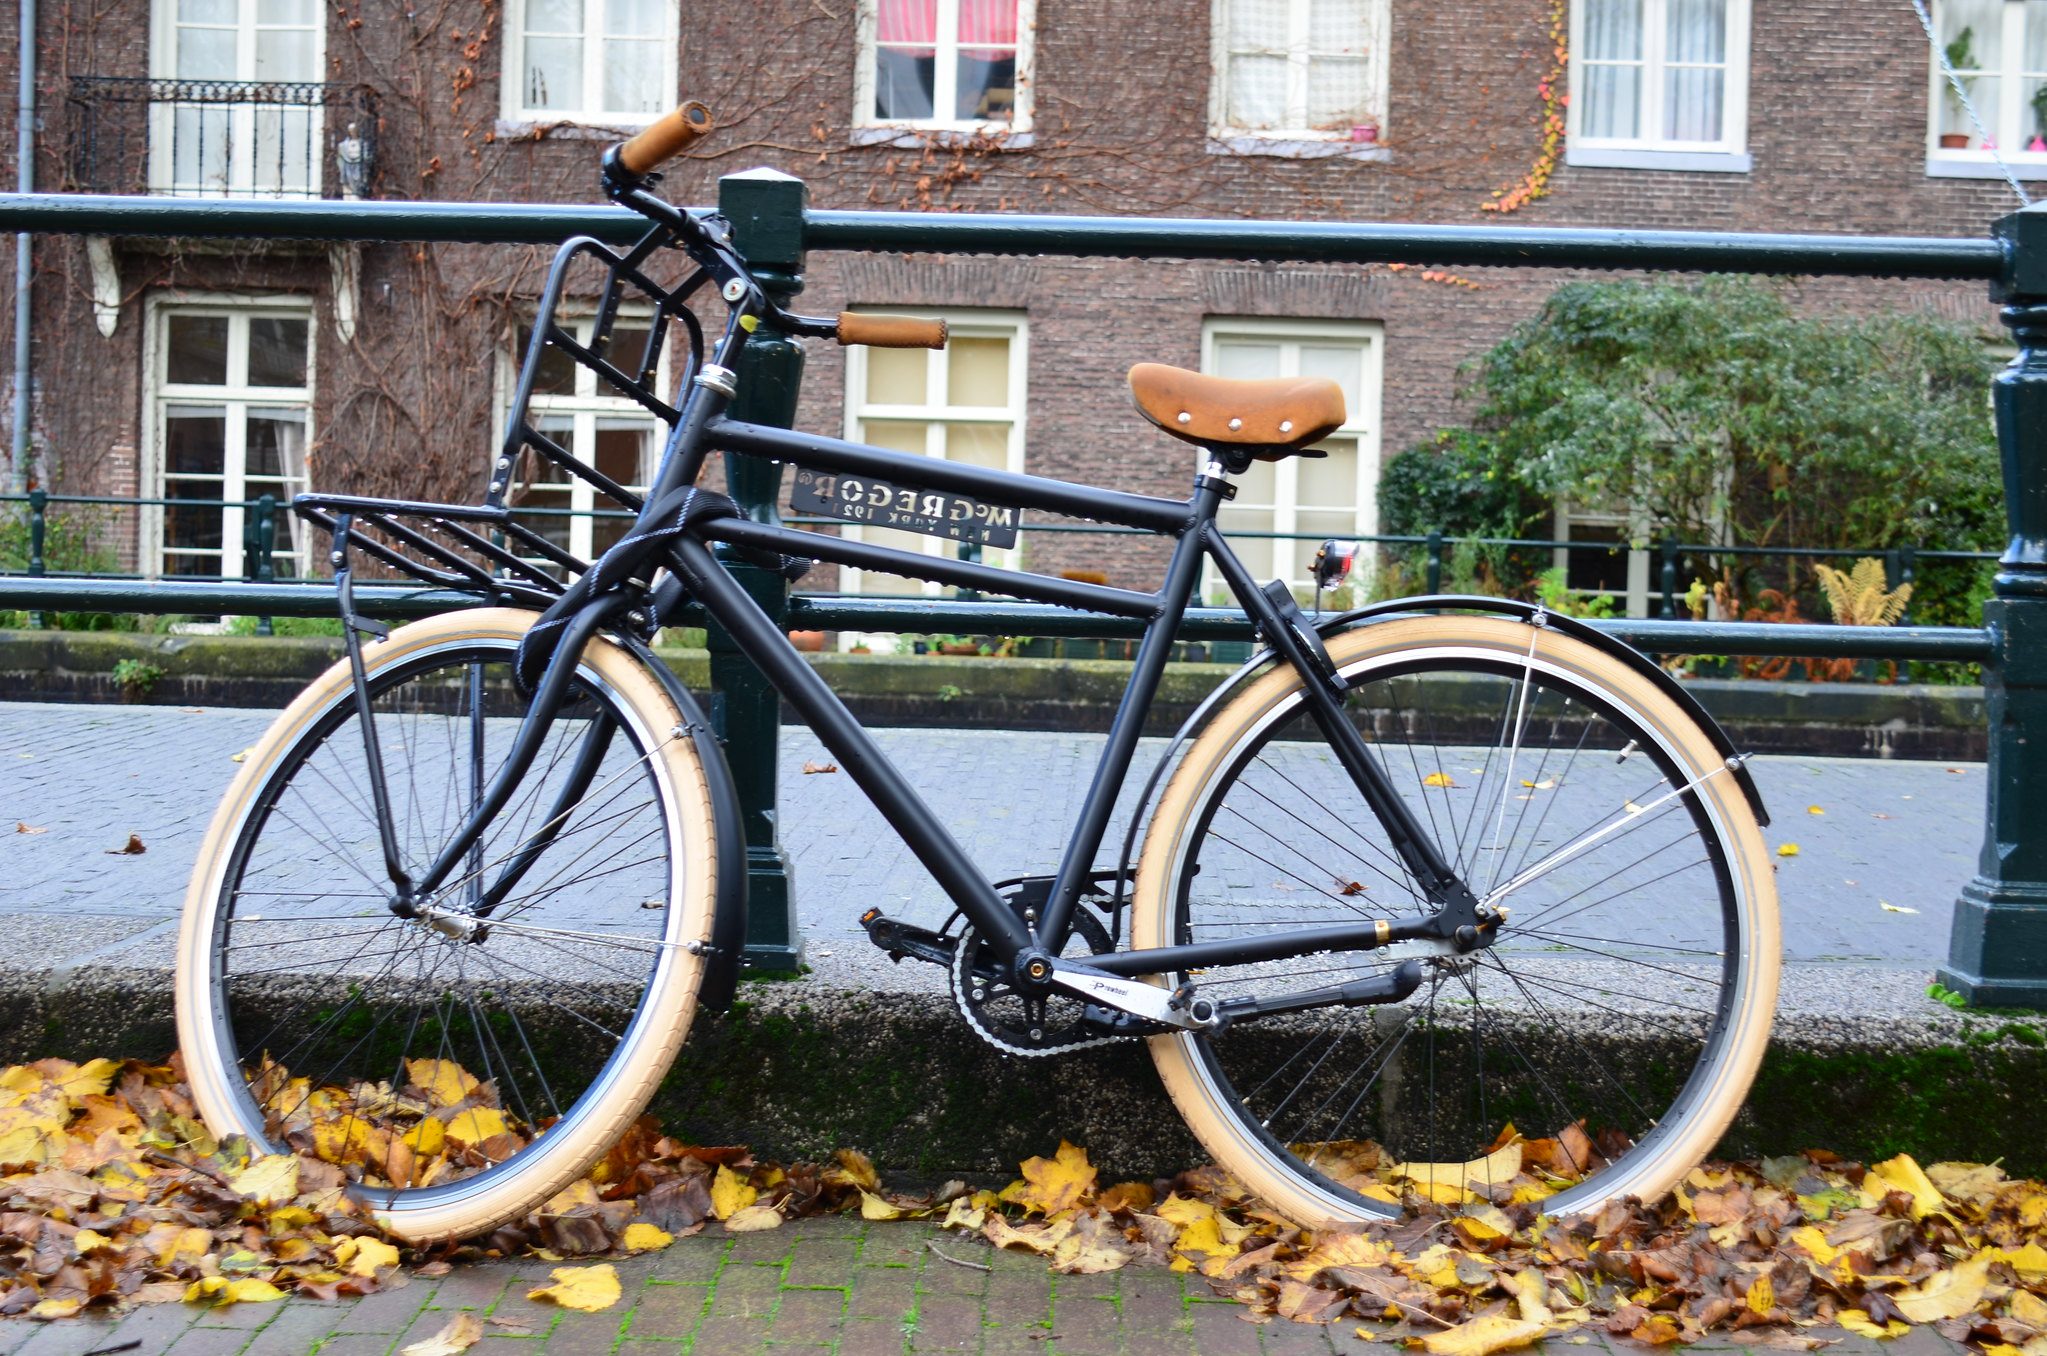bicycle: (174, 112, 1794, 1286)
